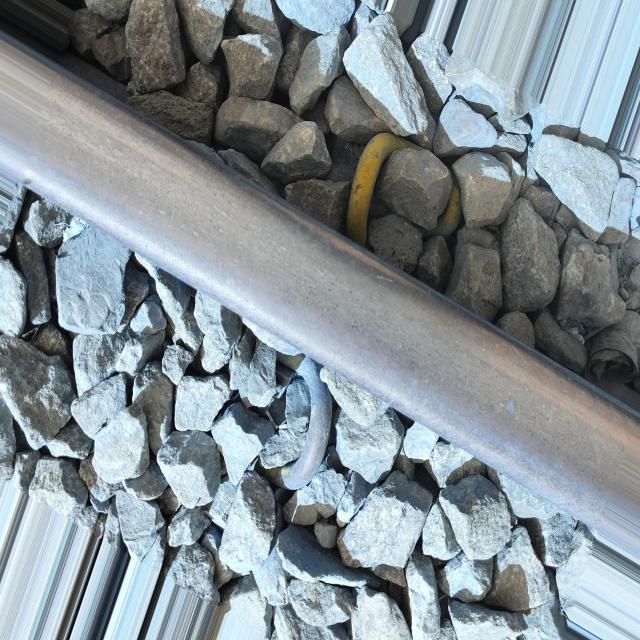Good Fasteners: (326, 133, 463, 244), (262, 353, 332, 490)
